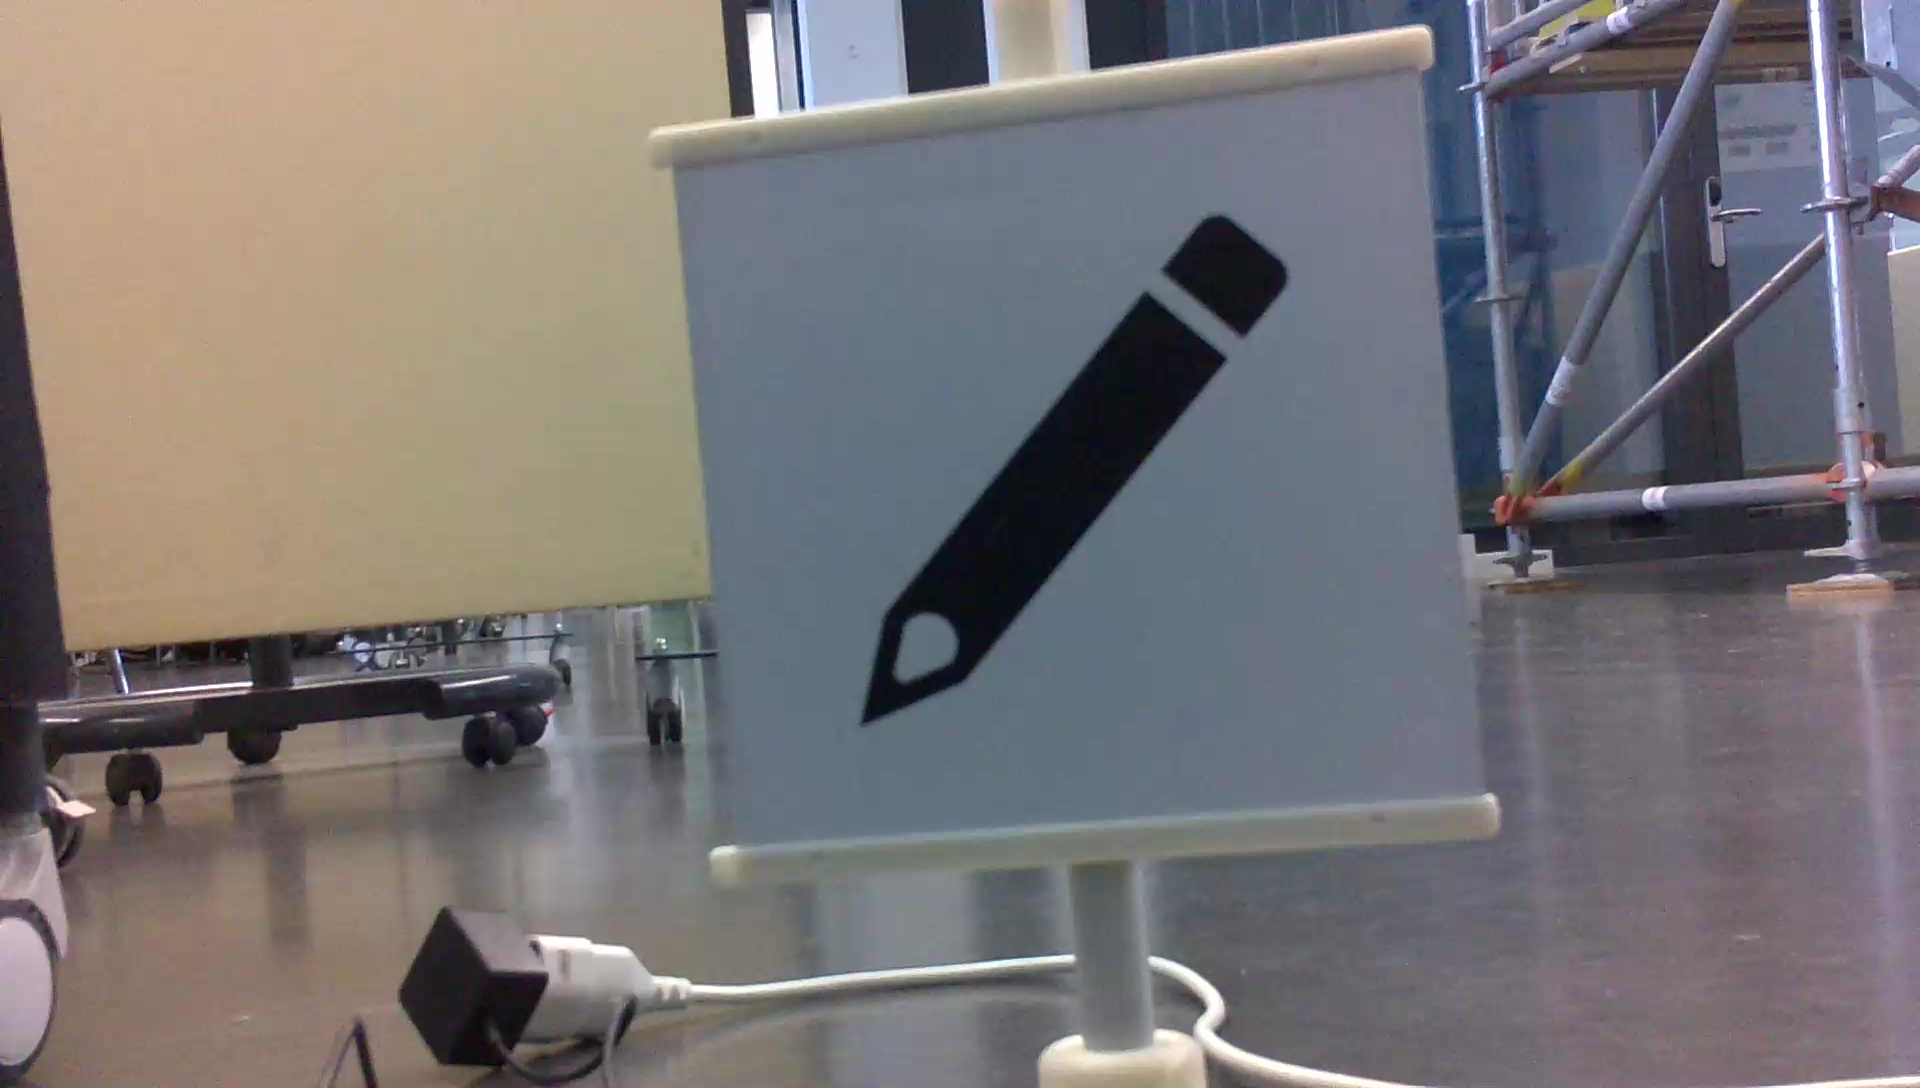pencil: (833, 196, 1313, 745)
